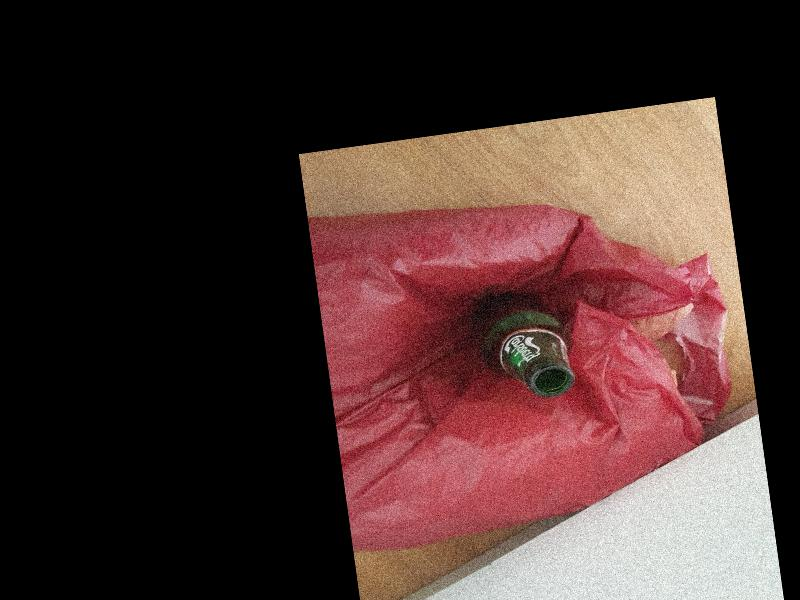Beer: (473, 284, 576, 404)
